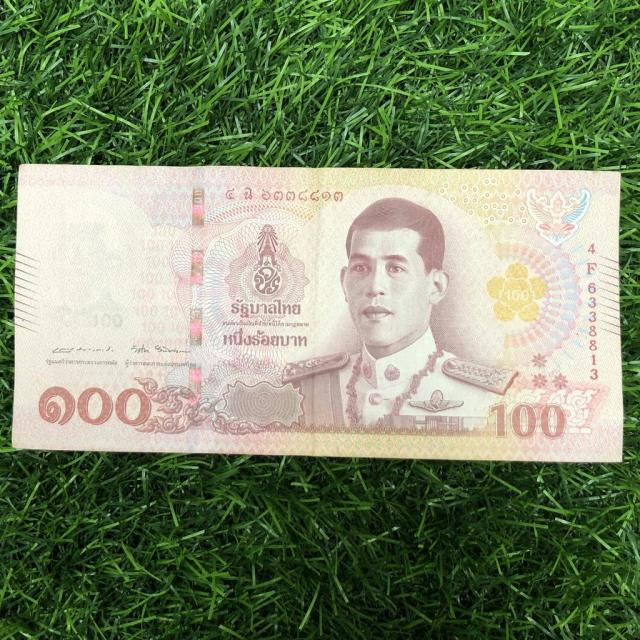THAI100: (12, 165, 622, 461)
